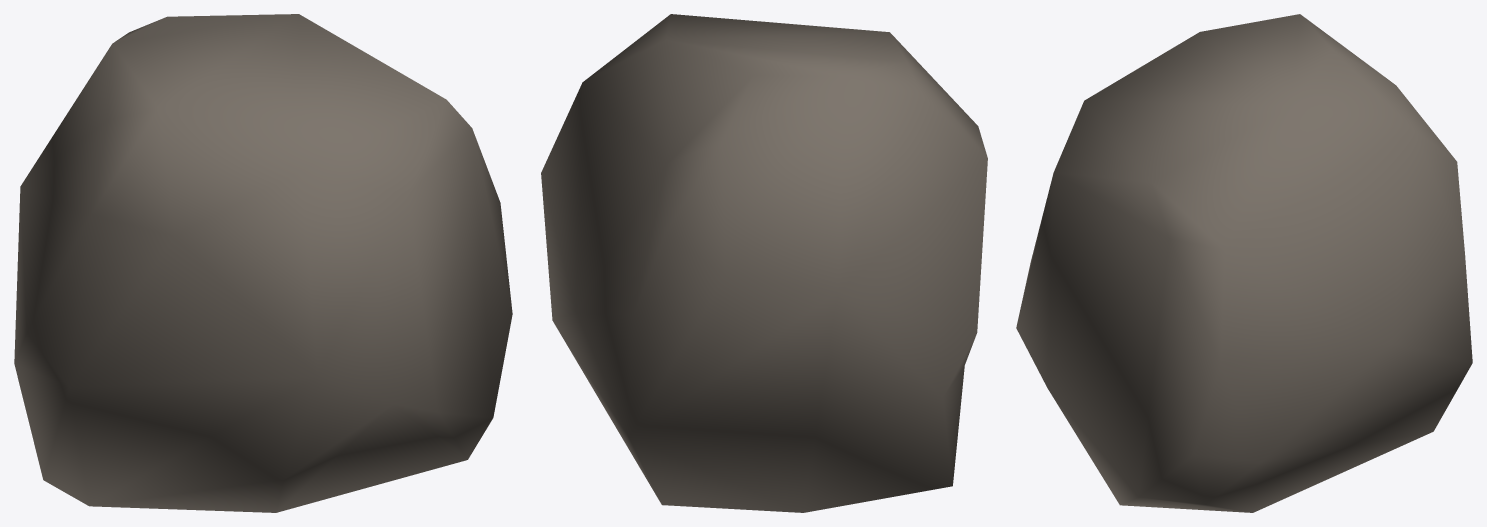
Rendered from SM_SmallRock_002.fbx.
3 renders of one model, left to right at view 1: azimuth 30°, elevation 25°; view 2: azimuth 150°, elevation 25°; view 3: azimuth 270°, elevation 25°, orthographic. The views are drawn at different scales.
Visible parts, largest first — view 1: SM_SmallRock_002; view 2: SM_SmallRock_002; view 3: SM_SmallRock_002.
Part boxes in pixels (x1,y1,x2,y2): SM_SmallRock_002: [14, 14, 512, 512]; SM_SmallRock_002: [541, 14, 987, 512]; SM_SmallRock_002: [1016, 14, 1472, 512].
Bounding box in the file's own units: 71.39 × 67.5 × 63.41.
Materials: 1 (1 with a texture image).
